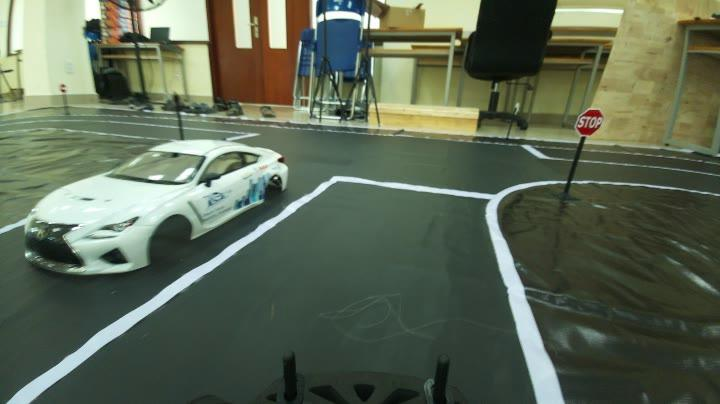car: (16, 136, 298, 264)
stop: (563, 103, 609, 140)
